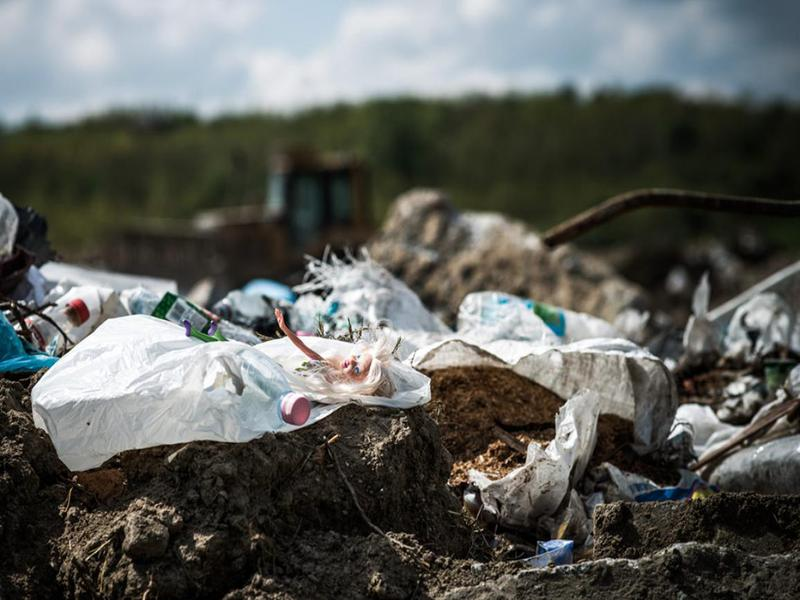bottle: (455, 280, 630, 343)
plastic: (19, 312, 437, 474), (459, 388, 608, 528)
